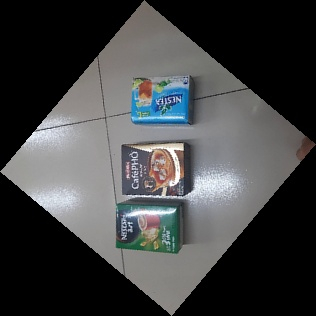CF pho: (119, 140, 193, 198)
Nes Rang: (115, 200, 186, 254)
Nestea: (129, 75, 197, 127)
